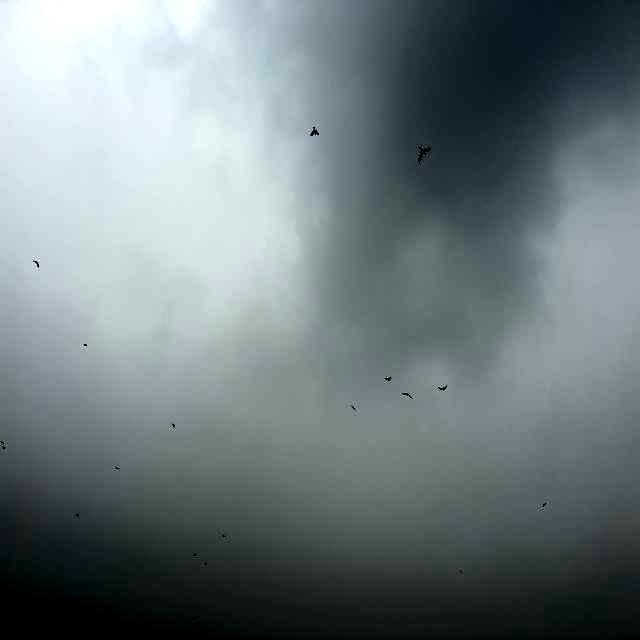bird: (346, 399, 371, 422), (382, 364, 400, 394), (163, 415, 184, 438), (396, 388, 420, 408), (536, 496, 558, 514), (418, 142, 433, 168), (28, 252, 44, 272), (108, 458, 125, 476), (78, 337, 98, 352), (213, 526, 234, 540), (310, 124, 326, 142), (438, 380, 450, 400), (74, 505, 85, 522)
